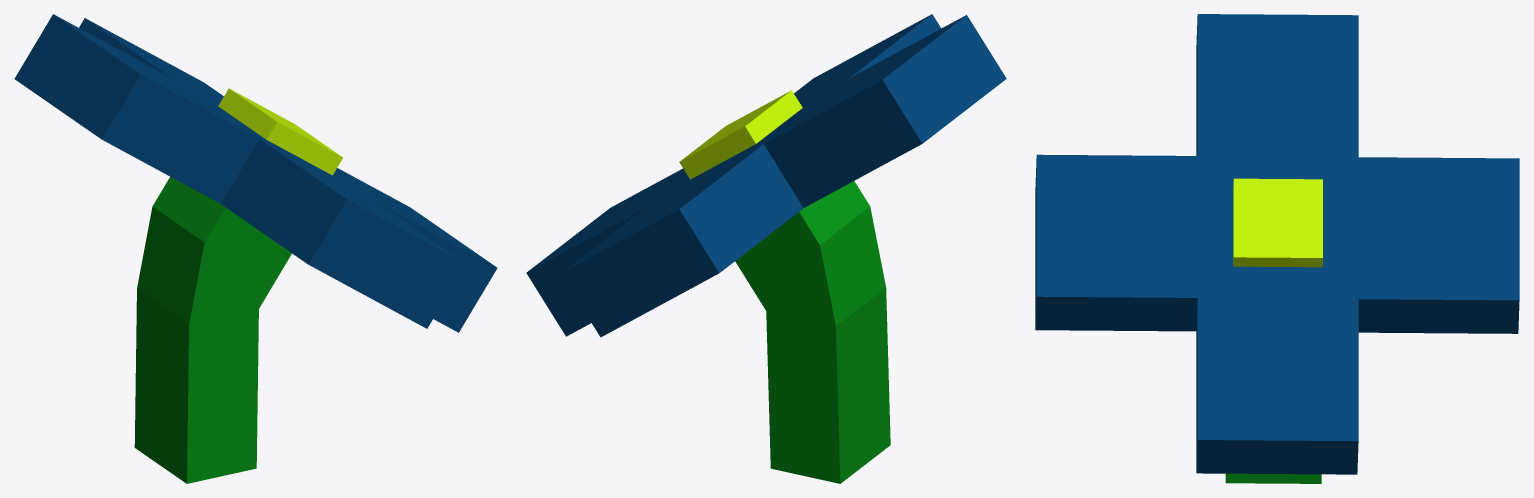
The model's file is Flower.fbx.
3 renders of one model, left to right at view 1: azimuth 30°, elevation 25°; view 2: azimuth 150°, elevation 25°; view 3: azimuth 270°, elevation 25°, orthographic. The views are drawn at different scales.
Visible parts, largest first — view 1: Cube; view 2: Cube; view 3: Cube.
Boxes of the visible parts, x1=… form: Cube: x1=14, y1=14, x2=497, y2=483; Cube: x1=526, y1=14, x2=1006, y2=483; Cube: x1=1035, y1=14, x2=1519, y2=483.
Size of the model in its own units: 267 by 281 by 301.
